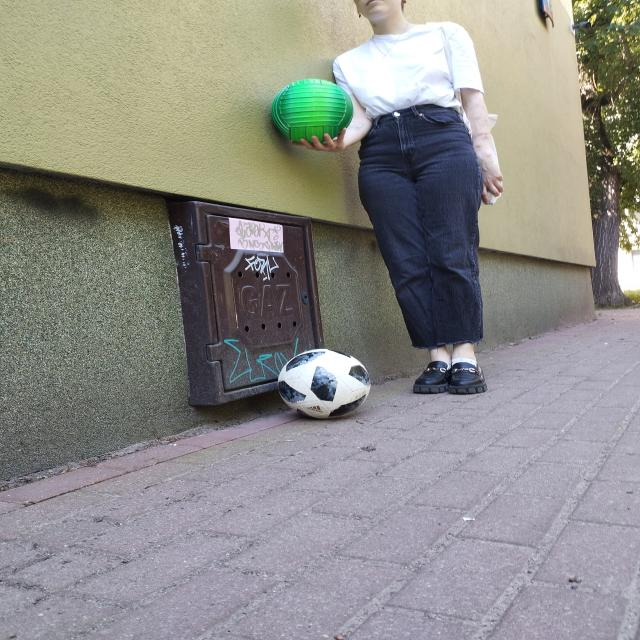nozna: (278, 349, 371, 420)
zielona: (270, 78, 354, 143)
